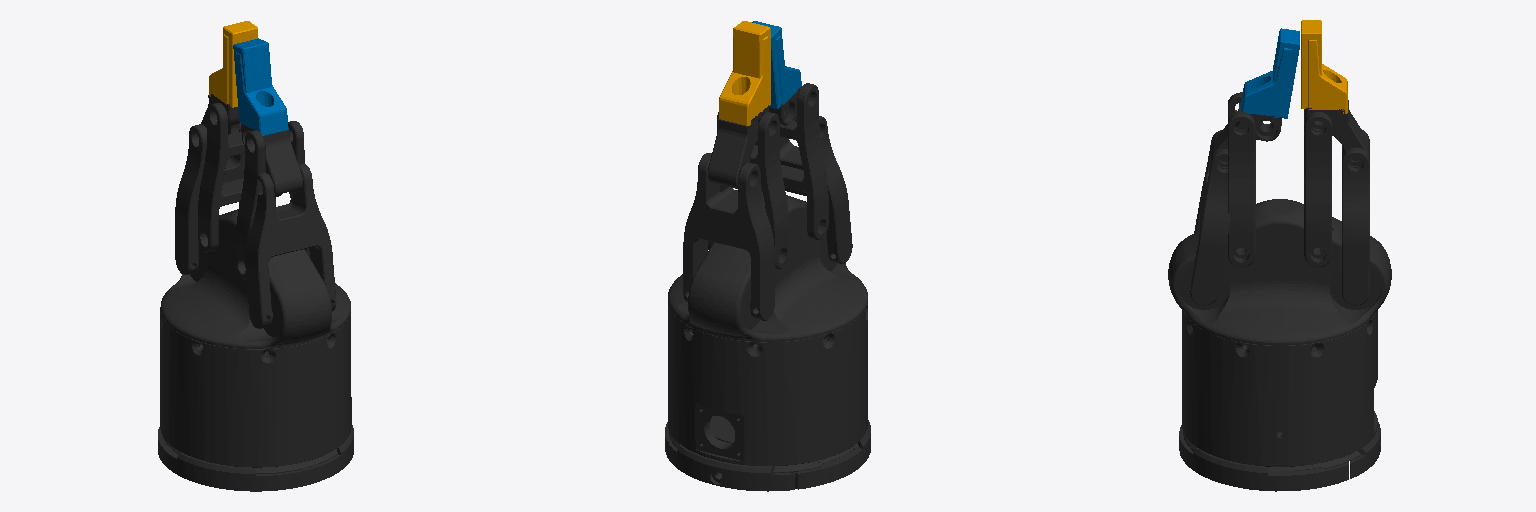
The robot description file, URDF, robot "flexiv_GN01":
<?xml version="1.0" ?>
<robot name="flexiv_GN01">

  <!-- base link -->
  <link name="base_link">
    <inertial>
      <origin rpy="0 0 0" xyz="0 0 0.057"/>
      <mass value="1.186"/>
      <inertia ixx="3E-3" ixy="0" ixz="0" iyy="3E-3" iyz="-0" izz="1E-3"/>
    </inertial>
    <visual>
      <origin rpy="0 0 1.5707963267948966" xyz="0 0 0"/>
      <geometry>
        <mesh filename="package://flexiv_description/meshes/grav/visual/base.stl" scale="0.001 0.001 0.001"/>
      </geometry>
      <material name="flexiv_black"/>
    </visual>
    <collision>
      <origin rpy="0 0 1.5707963267948966" xyz="0 0 0"/>
      <geometry>
        <mesh filename="package://flexiv_description/meshes/grav/collision/base.stl" scale="0.001 0.001 0.001"/>
      </geometry>
    </collision>
  </link>

  <!-- left finger links -->
  <link name="left_outer_bar">
    <inertial>
        <origin xyz="0 0 0.029" rpy="0 0 0" />
        <mass value="1E-4" />
        <inertia ixx="1E-7" ixy="0" ixz="0" iyy="1E-7" iyz="0" izz="1E-7" />
    </inertial>
    <visual>
      <origin rpy="0 0 1.5707963267948966" xyz="0 0 0"/>
      <geometry>
        <mesh filename="package://flexiv_description/meshes/grav/visual/outer_bar.stl" scale="0.001 0.001 0.001"/>
      </geometry>
      <material name="flexiv_black"/>
    </visual>
  </link>
  <link name="left_inner_bar">
    <inertial>
        <origin xyz="0 0 0.029" rpy="0 0 0" />
       <mass value="1E-4" />
        <inertia ixx="1E-7" ixy="0" ixz="0" iyy="1E-7" iyz="0" izz="1E-7" />
    </inertial>
    <visual>
      <origin rpy="0 0 1.5707963267948966" xyz="0 0 0"/>
      <geometry>
        <mesh filename="package://flexiv_description/meshes/grav/visual/inner_bar.stl" scale="0.001 0.001 0.001"/>
      </geometry>
      <material name="flexiv_black"/>
    </visual>
  </link>
  <link name="left_finger_mount">
    <inertial>
        <origin xyz="0 0 0" rpy="0 0 0" />
        <mass value="1E-4" />
        <inertia ixx="1E-7" ixy="0" ixz="0" iyy="1E-7" iyz="0" izz="1E-7" />
    </inertial>
    <visual>
      <origin rpy="0 0 1.5707963267948966" xyz="0 0 0"/>
      <geometry>
        <mesh filename="package://flexiv_description/meshes/grav/visual/finger_mount.stl" scale="0.001 0.001 0.001"/>
      </geometry>
      <material name="flexiv_black"/>
    </visual>
  </link>
  <link name="left_finger_tip">
    <inertial>
      <origin rpy="0 0 0" xyz="0 0 0"/>
      <mass value="0"/>
      <inertia ixx="0" ixy="0" ixz="0" iyy="0" iyz="0" izz="0"/>
    </inertial>
    <visual>
      <origin rpy="0 0 1.5707963267948966" xyz="0 0 0"/>
      <geometry>
        <mesh filename="package://flexiv_description/meshes/grav/visual/finger_tip.obj" scale="0.001 0.001 0.001"/>
      </geometry>
    </visual>
    <collision>
      <origin rpy="0 0 1.5707963267948966" xyz="0 0 0"/>
      <geometry>
        <mesh filename="package://flexiv_description/meshes/grav/collision/finger_tip.stl" scale="0.001 0.001 0.001"/>
      </geometry>
    </collision>
  </link>

  <!-- right finger links -->
  <link name="right_outer_bar">
    <inertial>
        <origin xyz="0 0 0.029" rpy="0 0 0" />
        <mass value="1E-4" />
        <inertia ixx="1E-7" ixy="0" ixz="0" iyy="1E-7" iyz="0" izz="1E-7" />
    </inertial>
    <visual>
      <origin rpy="0 0 1.5707963267948966" xyz="0 0 0"/>
      <geometry>
        <mesh filename="package://flexiv_description/meshes/grav/visual/outer_bar.stl" scale="0.001 0.001 0.001"/>
      </geometry>
      <material name="flexiv_black"/>
    </visual>
  </link>
  <link name="right_inner_bar">
    <inertial>
        <origin xyz="0 0 0.029" rpy="0 0 0" />
        <mass value="1E-4" />
        <inertia ixx="1E-7" ixy="0" ixz="0" iyy="1E-7" iyz="0" izz="1E-7" />
    </inertial>
    <visual>
      <origin rpy="0 0 1.5707963267948966" xyz="0 0 0"/>
      <geometry>
        <mesh filename="package://flexiv_description/meshes/grav/visual/inner_bar.stl" scale="0.001 0.001 0.001"/>
      </geometry>
      <material name="flexiv_black"/>
    </visual>
  </link>
  <link name="right_finger_mount">
    <inertial>
        <origin xyz="0 0 0" rpy="0 0 0" />
        <mass value="1E-4" />
        <inertia ixx="1E-7" ixy="0" ixz="0" iyy="1E-7" iyz="0" izz="1E-7" />
    </inertial>
    <visual>
      <origin rpy="0 0 1.5707963267948966" xyz="0 0 0"/>
      <geometry>
        <mesh filename="package://flexiv_description/meshes/grav/visual/finger_mount.stl" scale="0.001 0.001 0.001"/>
      </geometry>
      <material name="flexiv_black"/>
    </visual>
  </link>
  <link name="right_finger_tip">
    <inertial>
      <origin rpy="0 0 0" xyz="0 0 0"/>
      <mass value="0"/>
      <inertia ixx="0" ixy="0" ixz="0" iyy="0" iyz="0" izz="0"/>
    </inertial>
    <visual>
      <origin rpy="0 0 1.5707963267948966" xyz="0 0 0"/>
      <geometry>
        <mesh filename="package://flexiv_description/meshes/grav/visual/finger_tip.obj" scale="0.001 0.001 0.001"/>
      </geometry>
    </visual>
    <collision>
      <origin rpy="0 0 1.5707963267948966" xyz="0 0 0"/>
      <geometry>
        <mesh filename="package://flexiv_description/meshes/grav/collision/finger_tip.stl" scale="0.001 0.001 0.001"/>
      </geometry>
    </collision>
  </link>

  <!-- TCP links -->
  <link name="tcp"><!-- open finger, used by RCA -->
    <inertial>
      <origin rpy="0 0 0" xyz="0 0 0"/>
      <mass value="0"/>
      <inertia ixx="0" ixy="0" ixz="0" iyy="0" iyz="0" izz="0"/>
    </inertial>
  </link>
  <link name="closed_fingers_tcp">
    <inertial>
      <origin rpy="0 0 0" xyz="0 0 0"/>
      <mass value="0"/>
      <inertia ixx="0" ixy="0" ixz="0" iyy="0" iyz="0" izz="0"/>
    </inertial>
  </link>
  <link name="left_finger_tcp">
    <inertial>
      <origin rpy="0 0 0" xyz="0 0 0"/>
      <mass value="0"/>
      <inertia ixx="0" ixy="0" ixz="0" iyy="0" iyz="0" izz="0"/>
    </inertial>
  </link>
  <link name="right_finger_tcp">
    <inertial>
      <origin rpy="0 0 0" xyz="0 0 0"/>
      <mass value="0"/>
      <inertia ixx="0" ixy="0" ixz="0" iyy="0" iyz="0" izz="0"/>
    </inertial>
  </link>

  <joint name="open_fingers_tcp_joint" type="fixed">
    <origin rpy="0 0 0" xyz="0 0 0.15"/>
    <parent link="base_link"/>
    <child link="tcp"/>
    <axis xyz="0 0 1"/>
  </joint>

  <joint name="closed_fingers_tcp_joint" type="fixed">
    <origin rpy="0 0 0" xyz="0 0 0.20"/>
    <parent link="base_link"/>
    <child link="closed_fingers_tcp"/>
    <axis xyz="0 0 1"/>
  </joint>

  <!-- left finger joints -->
  <joint name="left_outer_knuckle_joint" type="revolute">
    <origin rpy="0 0 0" xyz="0 -0.0325 0.0825"/>
    <parent link="base_link"/>
    <child link="left_outer_bar"/>
    <axis xyz="1 0 0"/>
    <limit effort="0" lower="-0.155" upper="0.7854" velocity="2.0"/>
    <mimic joint="finger_width_joint" multiplier="9.404" offset="-0.155"/>
  </joint>
  <joint name="left_inner_knuckle_joint" type="revolute">
    <origin rpy="0 0 0" xyz="0 -0.0165 0.0995"/>
    <parent link="base_link"/>
    <child link="left_inner_bar"/>
    <axis xyz="1 0 0"/>
    <limit effort="0" lower="-0.155" upper="0.7854" velocity="2.0"/>
    <mimic joint="left_outer_knuckle_joint" multiplier="1" offset="0"/>
  </joint>
  <joint name="left_inner_finger_joint" type="revolute">
    <origin rpy="0 0 0" xyz="0 0 0.058"/>
    <parent link="left_outer_bar"/>
    <child link="left_finger_mount"/>
    <axis xyz="1 0 0"/>
    <limit effort="0" lower="-0.7854" upper="0.155" velocity="2.0"/>
    <mimic joint="left_outer_knuckle_joint" multiplier="-1" offset="0"/>
  </joint>
  <joint name="left_inner_finger_pad_joint" type="fixed">
    <origin rpy="0 0 0" xyz="0 0.010 0.0235"/>
    <parent link="left_finger_mount"/>
    <child link="left_finger_tip"/>
    <axis xyz="0 0 1"/>
  </joint>
  <joint name="left_finger_tcp_joint" type="fixed">
    <origin rpy="0 0 0" xyz="0 0.0135 0.036"/>
    <parent link="left_finger_tip"/>
    <child link="left_finger_tcp"/>
    <axis xyz="0 0 1"/>
  </joint>

  <!-- right finger joints -->
  <joint name="right_outer_knuckle_joint" type="revolute">
    <origin rpy="0 0 3.141592653589793" xyz="0 0.0325 0.0825"/>
    <parent link="base_link"/>
    <child link="right_outer_bar"/>
    <axis xyz="1 0 0"/>
    <limit effort="0" lower="-0.155" upper="0.7854" velocity="2.0"/>
    <mimic joint="left_outer_knuckle_joint" multiplier="1" offset="0"/>
  </joint>
  <joint name="right_inner_knuckle_joint" type="revolute">
    <origin rpy="0 0 3.141592653589793" xyz="0 0.0165 0.0995"/>
    <parent link="base_link"/>
    <child link="right_inner_bar"/>
    <axis xyz="1 0 0"/>
    <limit effort="0" lower="-0.155" upper="0.7854" velocity="2.0"/>
    <mimic joint="left_outer_knuckle_joint" multiplier="1" offset="0"/>
  </joint>
  <joint name="right_inner_finger_joint" type="revolute">      
    <origin rpy="0 0 0" xyz="0 0 0.058"/>
    <parent link="right_outer_bar"/>
    <child link="right_finger_mount"/>
    <axis xyz="1 0 0"/>
    <limit effort="0" lower="-0.7854" upper="0.155" velocity="2.0"/>
    <mimic joint="left_outer_knuckle_joint" multiplier="-1" offset="0"/>
  </joint>
  <joint name="right_inner_finger_pad_joint" type="fixed">
    <origin rpy="0 0 0" xyz="0 0.010 0.0235"/>
    <parent link="right_finger_mount"/>
    <child link="right_finger_tip"/>
    <axis xyz="0 0 1"/>
  </joint>
  <joint name="right_finger_tcp_joint" type="fixed">
    <origin rpy="0 0 0" xyz="0 0.0135 0.036"/>
    <parent link="right_finger_tip"/>
    <child link="right_finger_tcp"/>
    <axis xyz="0 0 1"/>
  </joint>

  <!-- 
  Control joint.
  Should we replace this with transmission?
  Note: This virtual joint should be prismatic, 
        but it must be revolute to match the mimic joint.
        The unused link cannot have 0 mass.
  -->
  <joint name="finger_width_joint" type="revolute">
    <origin rpy="0 0 0" xyz="0 0 0"/>
    <parent link="base_link"/>
    <child link="unused_finger_width_link"/>
    <axis xyz="1 0 0"/>
    <limit effort="80" lower="0" upper="0.100" velocity="0.2"/>
  </joint>

  <link name="unused_finger_width_link">
    <inertial>
      <origin rpy="0 0 0" xyz="0 0 0"/>
      <mass value="1E-4"/>
      <inertia ixx="1E-7" ixy="0" ixz="0" iyy="1E-7" iyz="0" izz="1E-7"/>
    </inertial>
  </link>

   <!-- materials -->
  <material name="flexiv_black">
    <color rgba="0.22 0.22 0.22 1"/>
  </material>
</robot>

--- Render facts (derived) ---
The picture shows the robot from 3 angles, left to right: view 1: azimuth 30°, elevation 25°; view 2: azimuth 150°, elevation 25°; view 3: azimuth 270°, elevation 25°; orthographic projection.
Robot: flexiv_GN01 — 14 links, 13 joints (7 revolute, 6 fixed); root link base_link; default pose: all joints at 0.
Visible links, largest first — view 1: base_link, left_outer_bar, right_inner_bar, right_outer_bar, left_finger_tip, left_inner_bar, left_finger_mount, right_finger_tip; view 2: base_link, right_outer_bar, left_inner_bar, right_finger_tip, right_inner_bar, left_outer_bar, right_finger_mount, left_finger_tip; view 3: base_link, right_outer_bar, left_outer_bar, left_inner_bar, right_inner_bar, left_finger_tip, right_finger_tip, right_finger_mount, left_finger_mount.
Link boxes in pixels (x1,y1,x2,y2): base_link: (158, 209, 353, 491); left_outer_bar: (245, 163, 336, 337); right_inner_bar: (198, 103, 275, 252); right_outer_bar: (175, 123, 244, 281); left_finger_tip: (233, 38, 288, 135); left_inner_bar: (235, 121, 309, 279); left_finger_mount: (241, 122, 302, 196); right_finger_tip: (209, 21, 257, 107); base_link: (665, 192, 870, 491); right_outer_bar: (683, 153, 774, 329); left_inner_bar: (755, 83, 828, 239); right_finger_tip: (719, 21, 770, 125); right_inner_bar: (708, 112, 788, 268); left_outer_bar: (780, 116, 852, 271); right_finger_mount: (708, 105, 768, 188); left_finger_tip: (752, 21, 801, 108); base_link: (1168, 199, 1391, 491); right_outer_bar: (1330, 130, 1381, 309); left_outer_bar: (1178, 130, 1230, 309); left_inner_bar: (1228, 92, 1255, 267); right_inner_bar: (1304, 109, 1331, 267); left_finger_tip: (1241, 28, 1299, 118); right_finger_tip: (1301, 20, 1347, 113); right_finger_mount: (1306, 100, 1369, 165); left_finger_mount: (1211, 103, 1282, 166).
Size in the robot's own frame: 0.0865 by 0.096 by 0.202 metres.
Meshes: 5 distinct files referenced, 9 mesh visuals loaded (4 binary STL, 1 OBJ).